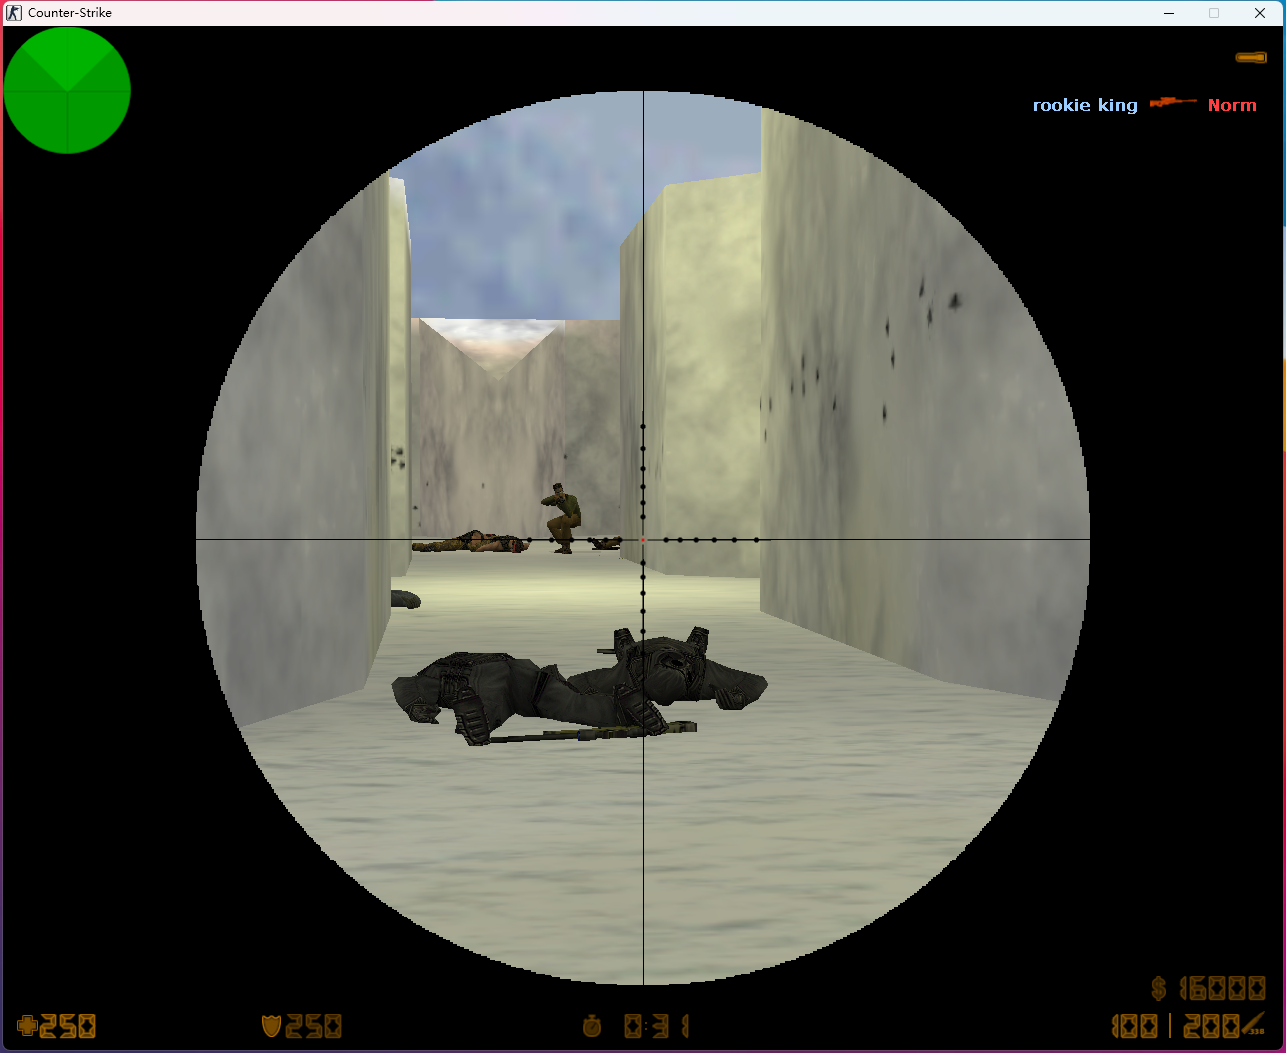T: (540, 482, 583, 553)
dead: (389, 651, 664, 738), (568, 625, 769, 712), (409, 532, 533, 553)
weapon: (483, 729, 707, 745)
